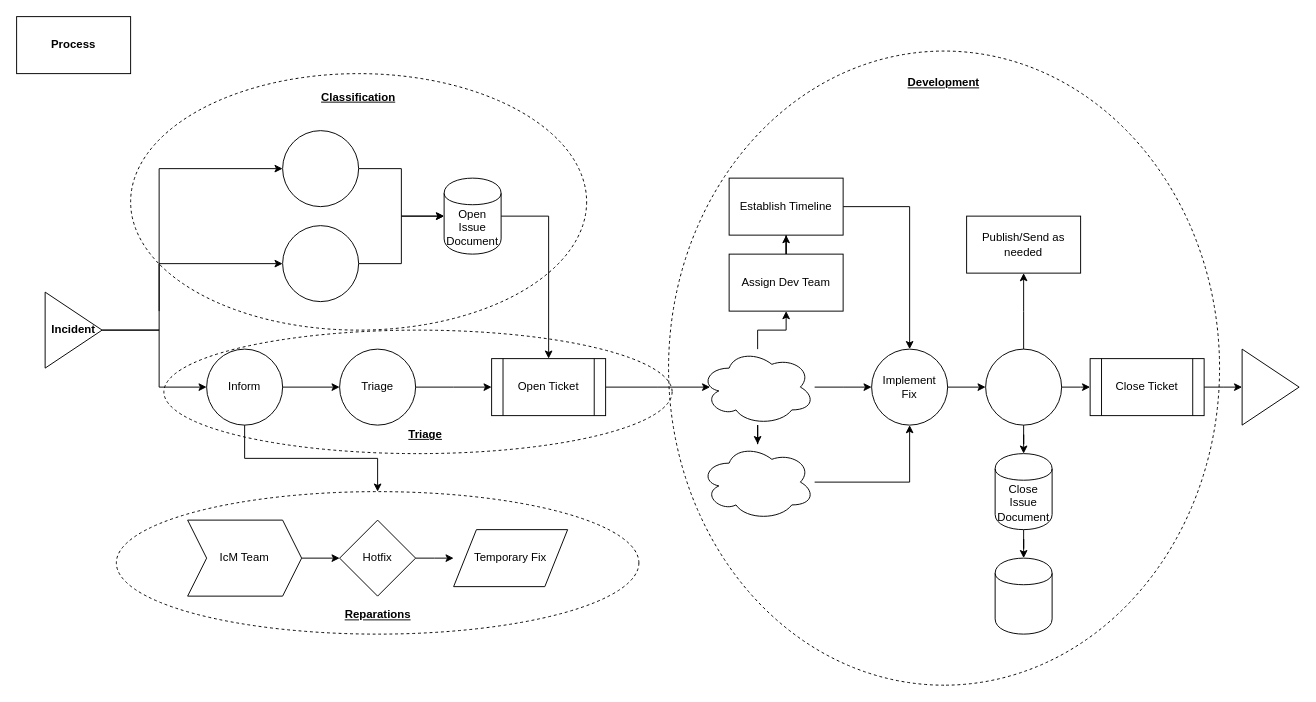
The diagram is 1316 pixels wide and 702 high, and some of its shapes have lost their labels. The shapes that lost their labels are listed below. From the top down, each one's centre as x and y in pixels, then its label:
At pixel 320 168: "Categorize".
At pixel 320 263: "Identify".
At pixel 757 386: "Brainstorm Solution".
At pixel 1023 386: "Document Solution".
At pixel 1270 386: "Resolve Incident".
At pixel 757 481: "Review Past Solutions".
At pixel 1023 595: "Store".
